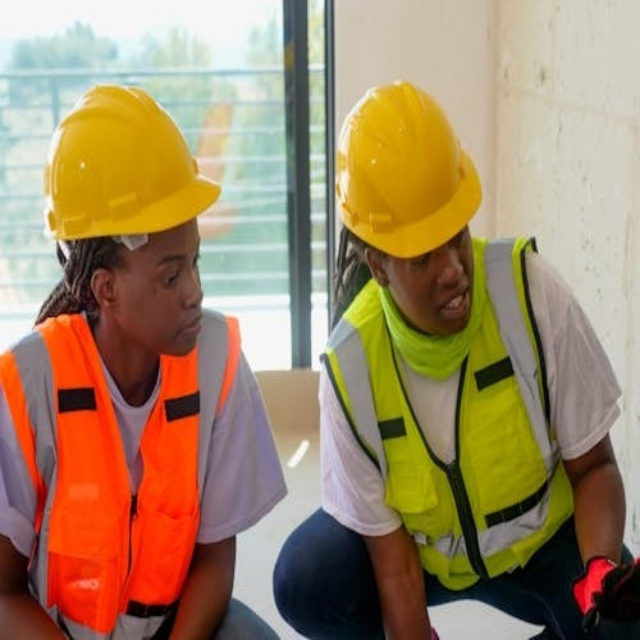Guantes: (572, 553, 639, 632)
Sin_gafas: (134, 239, 206, 292)
Sin_mascara: (419, 280, 476, 333)
